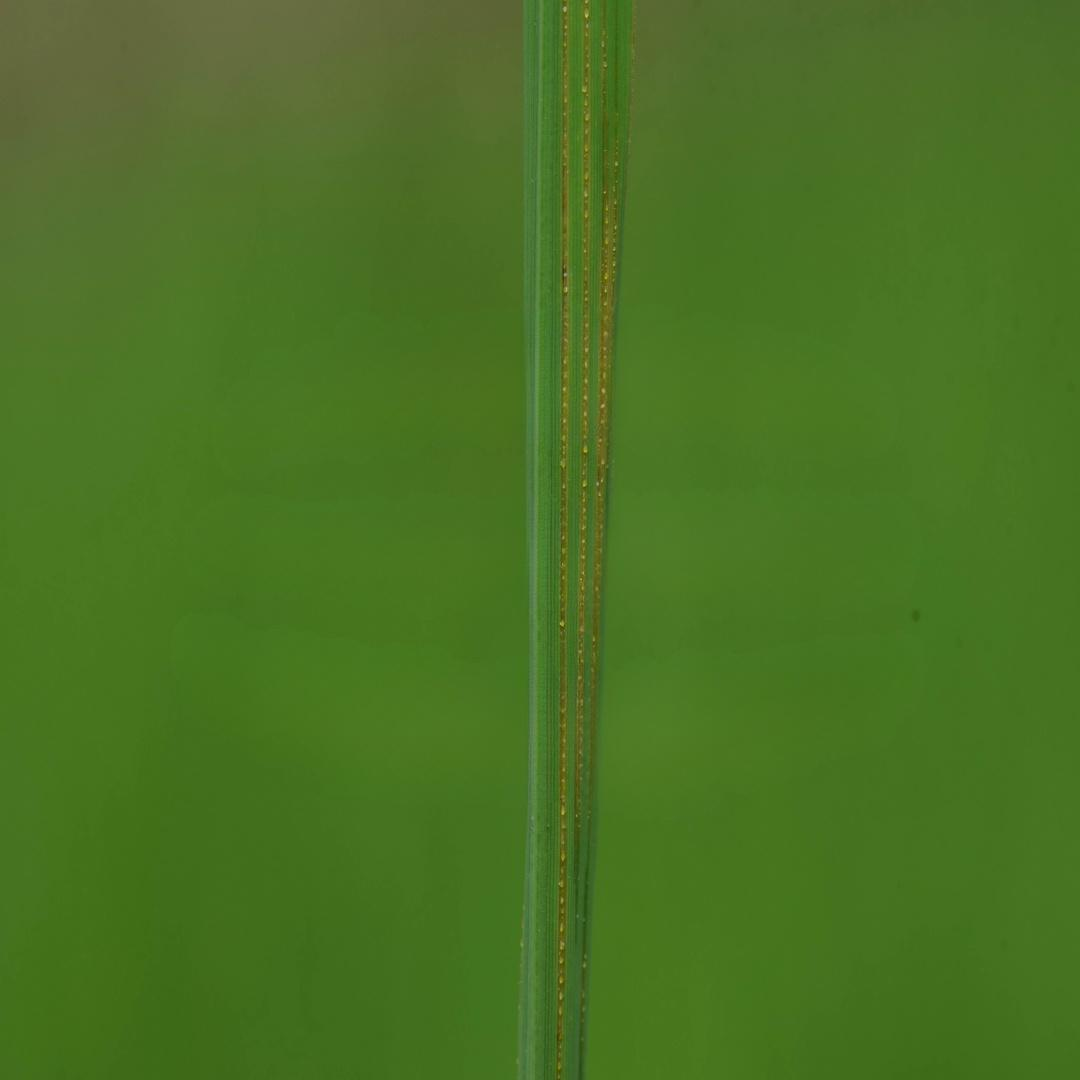BLS: (579, 0, 620, 1079), (574, 0, 590, 857), (558, 0, 569, 1079)
